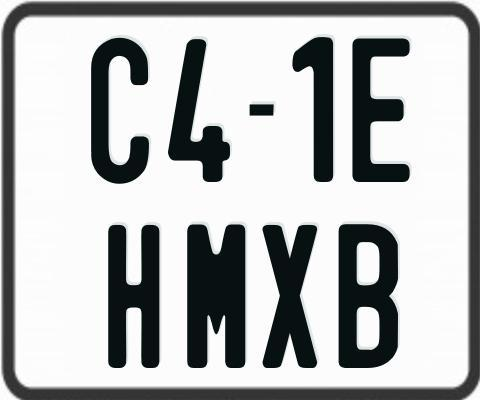1: (291, 34, 333, 181)
4: (165, 36, 230, 183)
B: (338, 221, 400, 369)
C: (90, 37, 148, 189)
E: (352, 35, 416, 179)
H: (107, 224, 160, 371)
M: (184, 224, 244, 372)
X: (263, 222, 319, 366)
